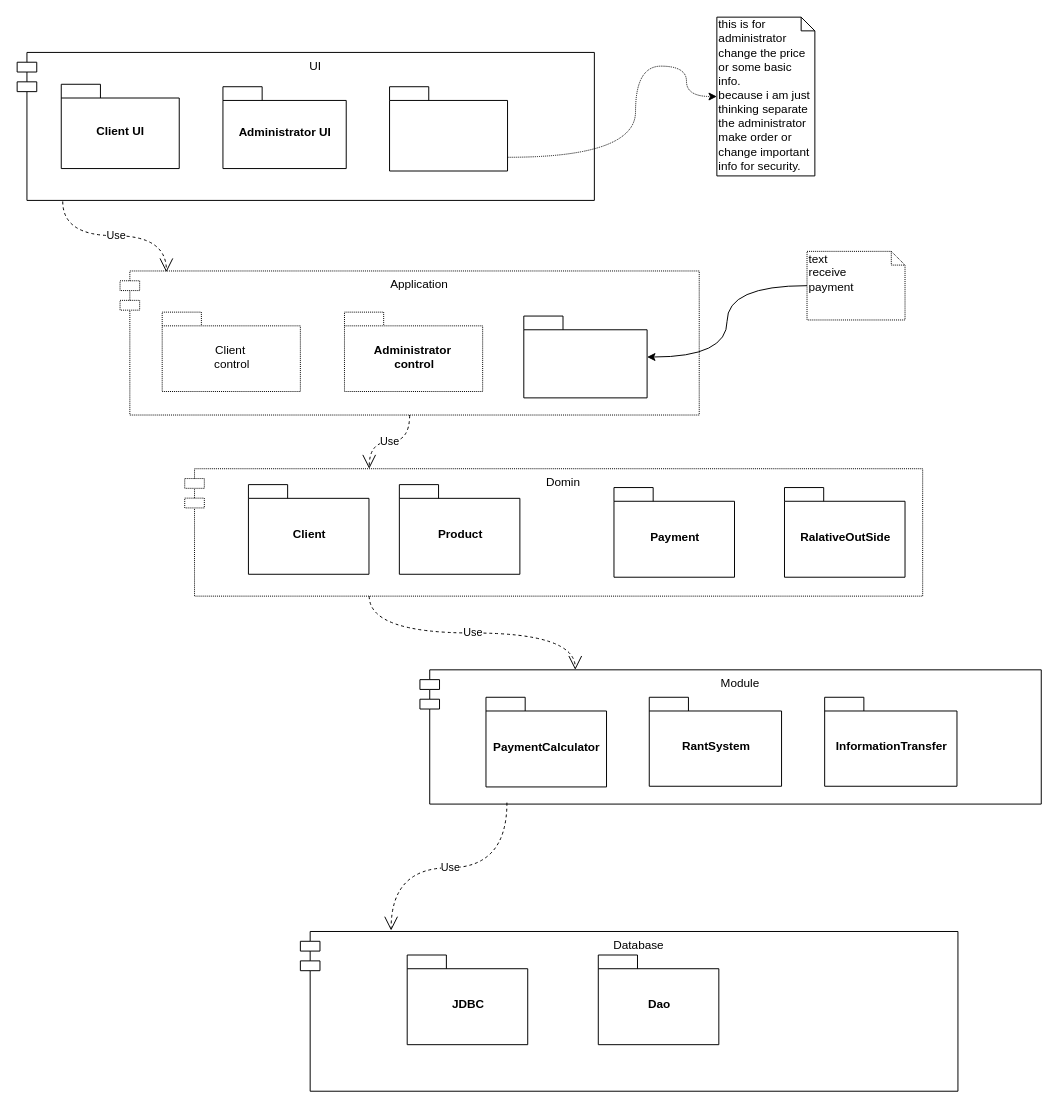
The diagram is 1058 pixels wide and 1108 high, and some of its shapes have lost their labels. Each missing label, with the centre of its shape:
"consoleUI" goes at point (448, 128).
"Documentation" goes at point (585, 356).
